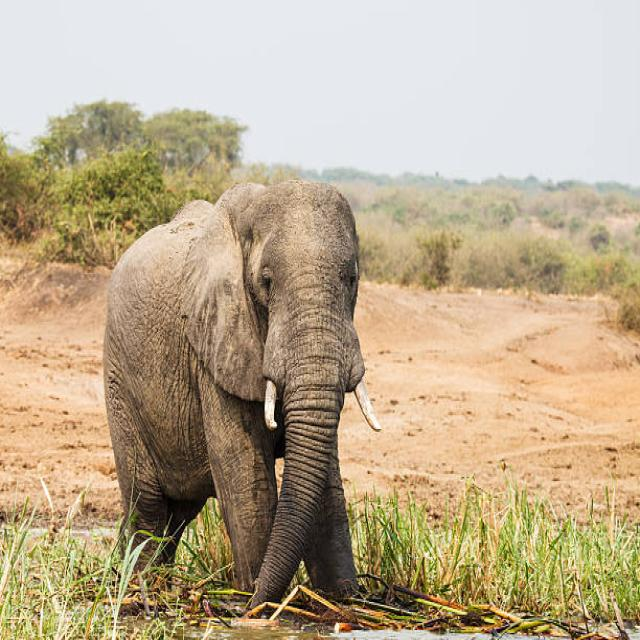Elephant: (104, 170, 379, 620)
